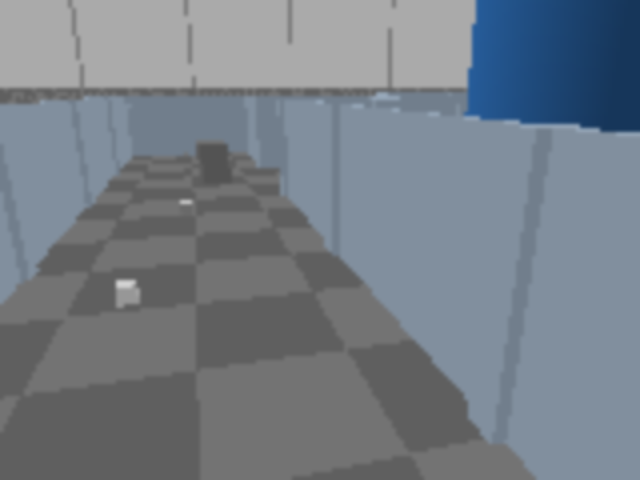puck: (114, 278, 139, 307)
